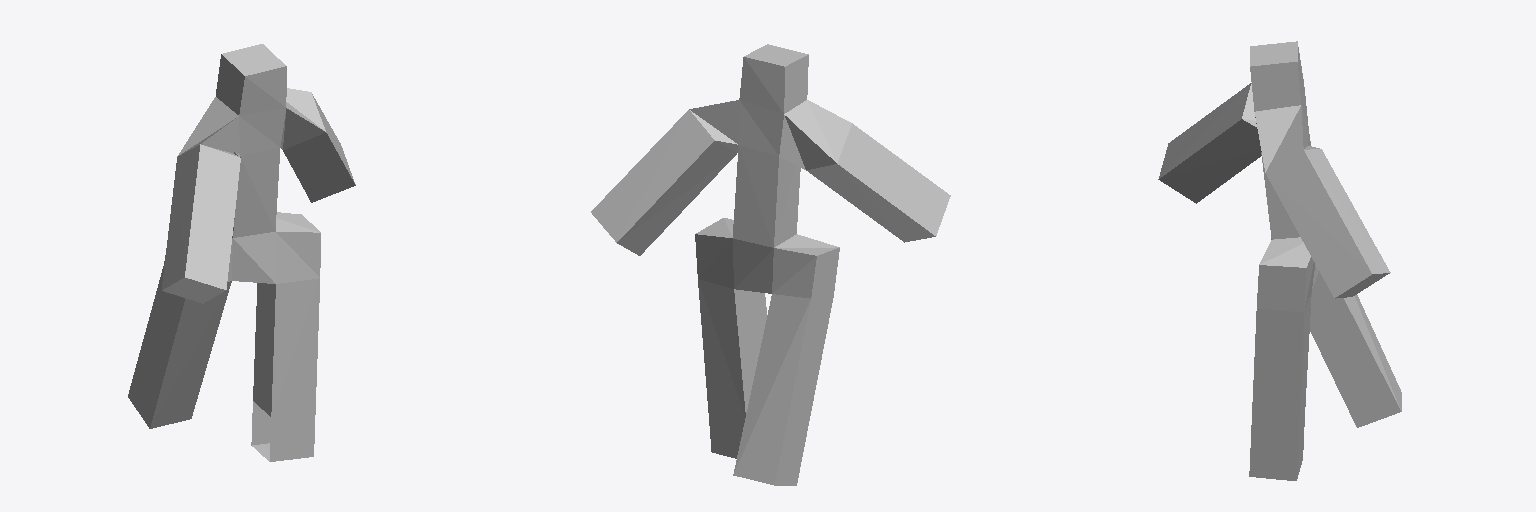
File: cuboid_000019.obj
The picture shows the model from 3 angles: view 1: azimuth 30°, elevation 25°; view 2: azimuth 150°, elevation 25°; view 3: azimuth 270°, elevation 25°; orthographic projection.
Visible parts, largest first — view 1: Cube; view 2: Cube; view 3: Cube.
Boxes of the visible parts, <box> form: Cube: <box>128,44,355,461</box>; Cube: <box>591,44,950,485</box>; Cube: <box>1158,41,1401,480</box>.
Bounding box in the file's own units: 3.16 × 4.65 × 2.53.